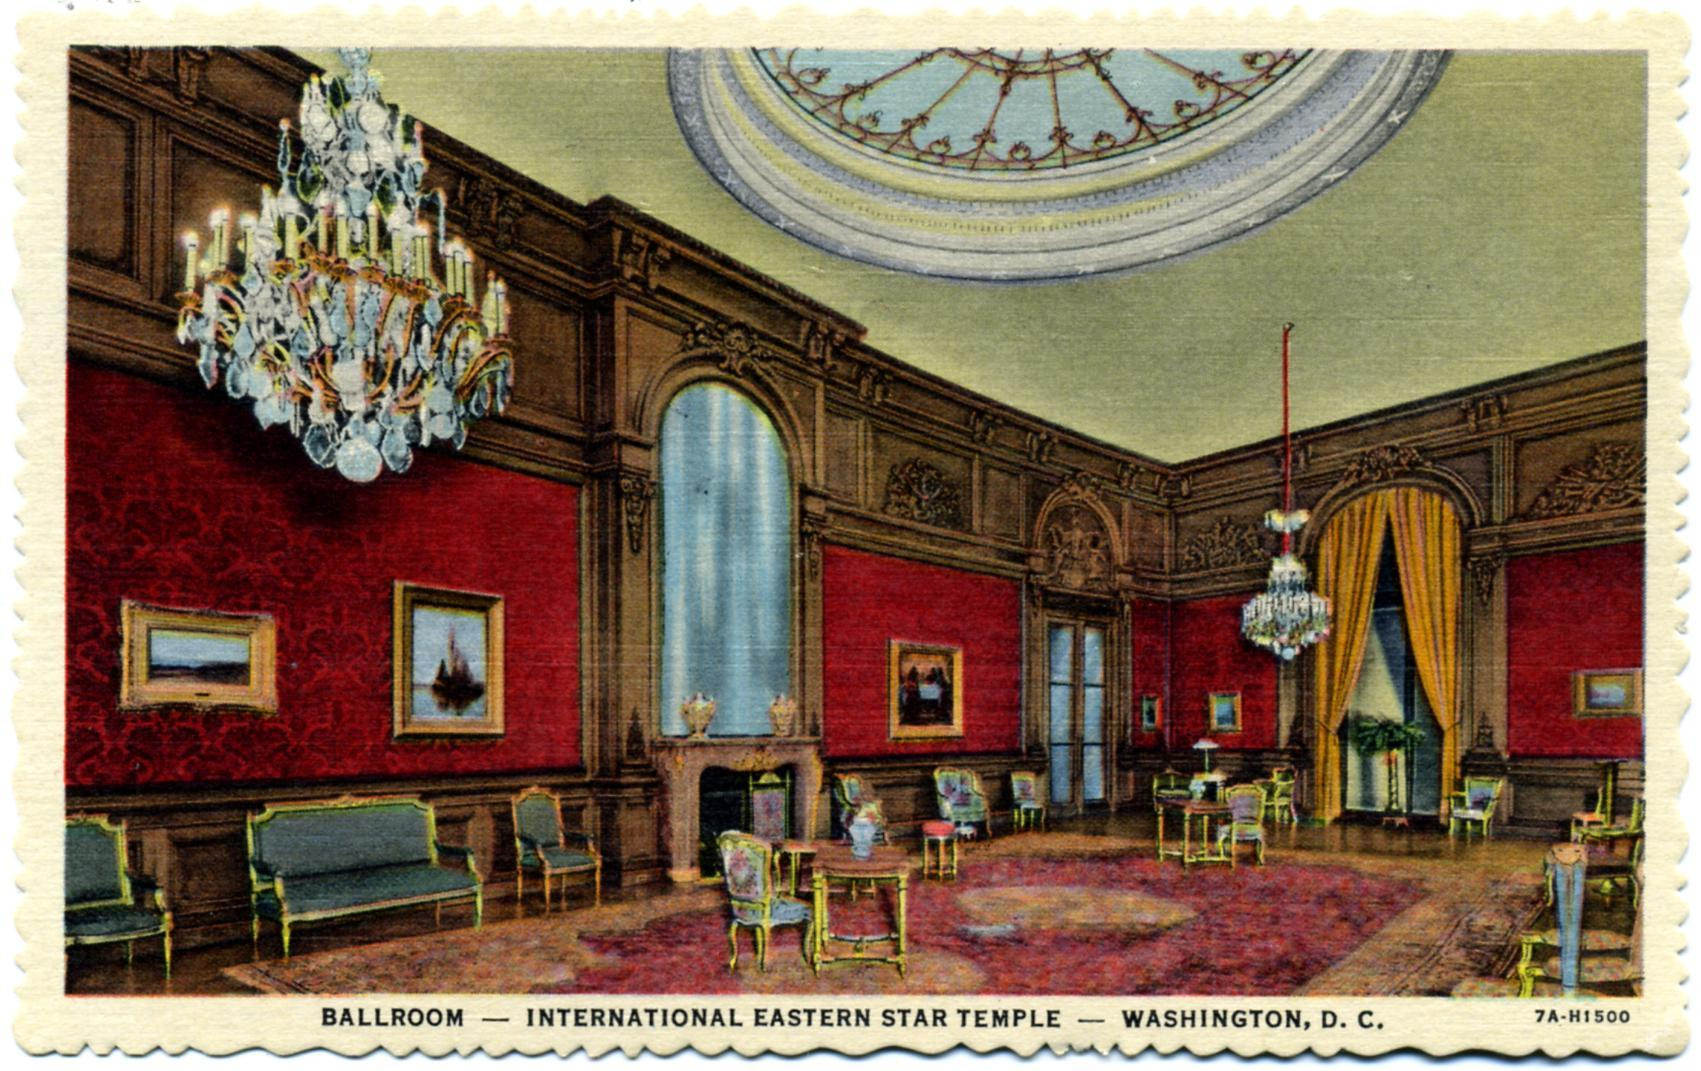chair: (208, 777, 505, 941), (69, 795, 176, 991), (693, 813, 805, 990), (488, 767, 616, 920)
